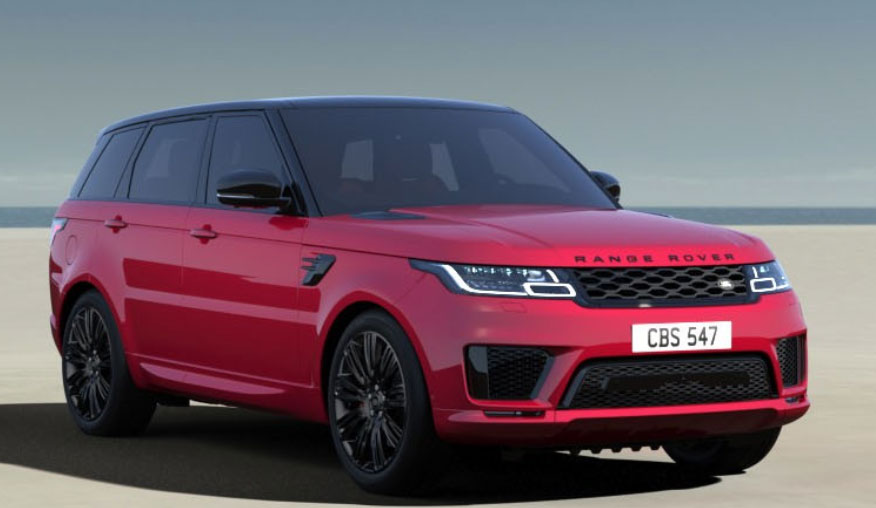pickup: (44, 95, 813, 493)
